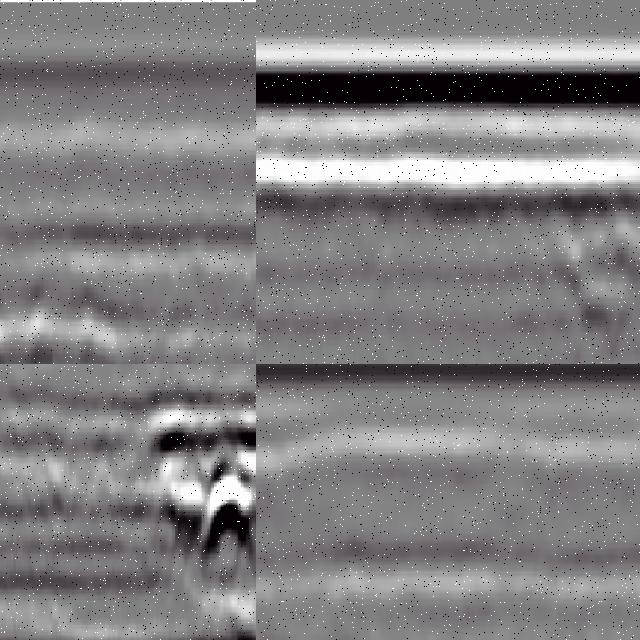loose: (125, 365, 257, 640), (562, 187, 640, 358), (1, 285, 131, 365)
